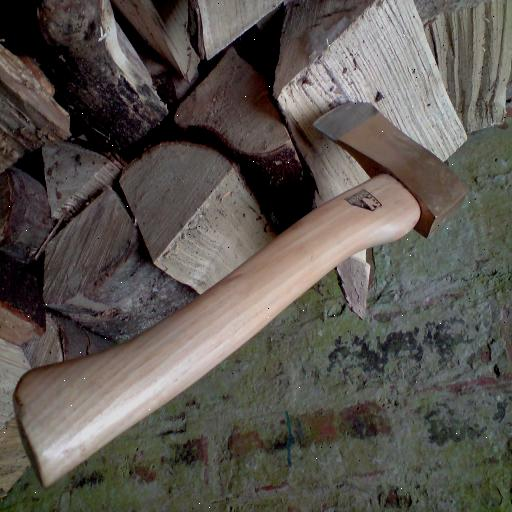Axe: (11, 98, 469, 486)
